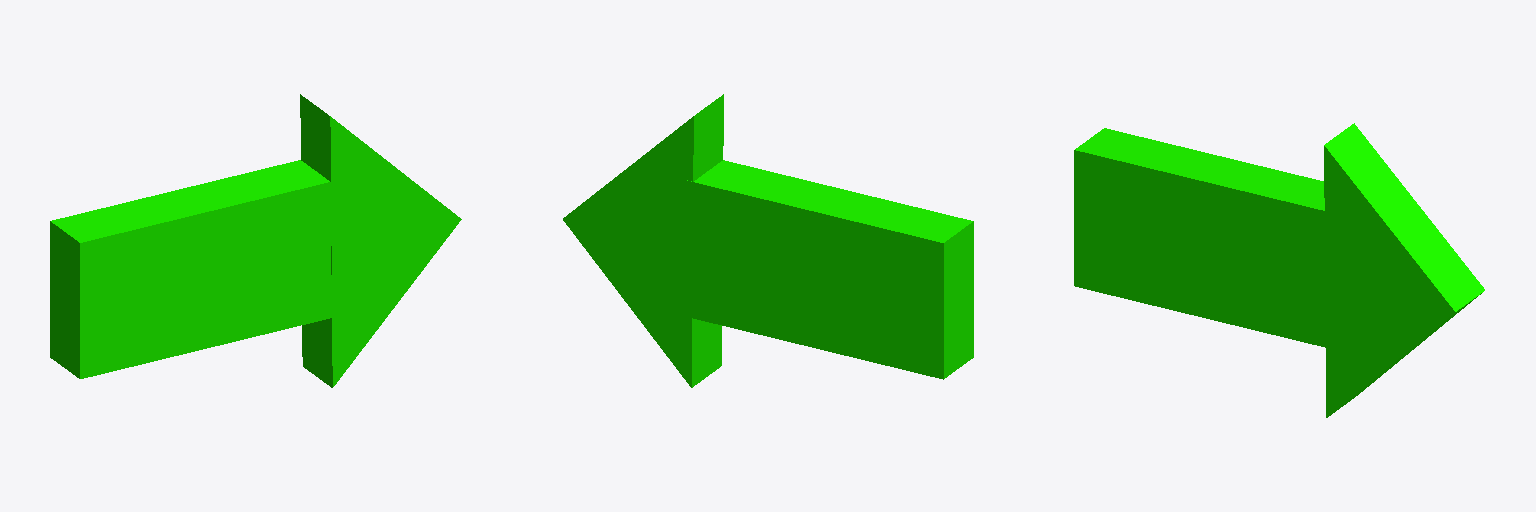
Rendered from arrow3.obj.
3 views of the same model, side by side, from view 1: azimuth 30°, elevation 25°; view 2: azimuth 150°, elevation 25°; view 3: azimuth 330°, elevation 25° (orthographic).
Parts seen in each view (by area): view 1: mesh01; view 2: mesh01; view 3: mesh01.
Boxes of the visible parts, x1=… form: mesh01: x1=50, y1=94, x2=461, y2=387; mesh01: x1=563, y1=94, x2=973, y2=387; mesh01: x1=1074, y1=123, x2=1484, y2=417.
Bounding box in the file's own units: 1.46 × 1 × 0.2016.